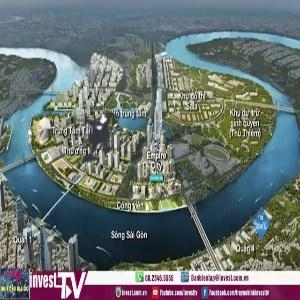drone: (5, 34, 198, 227)
